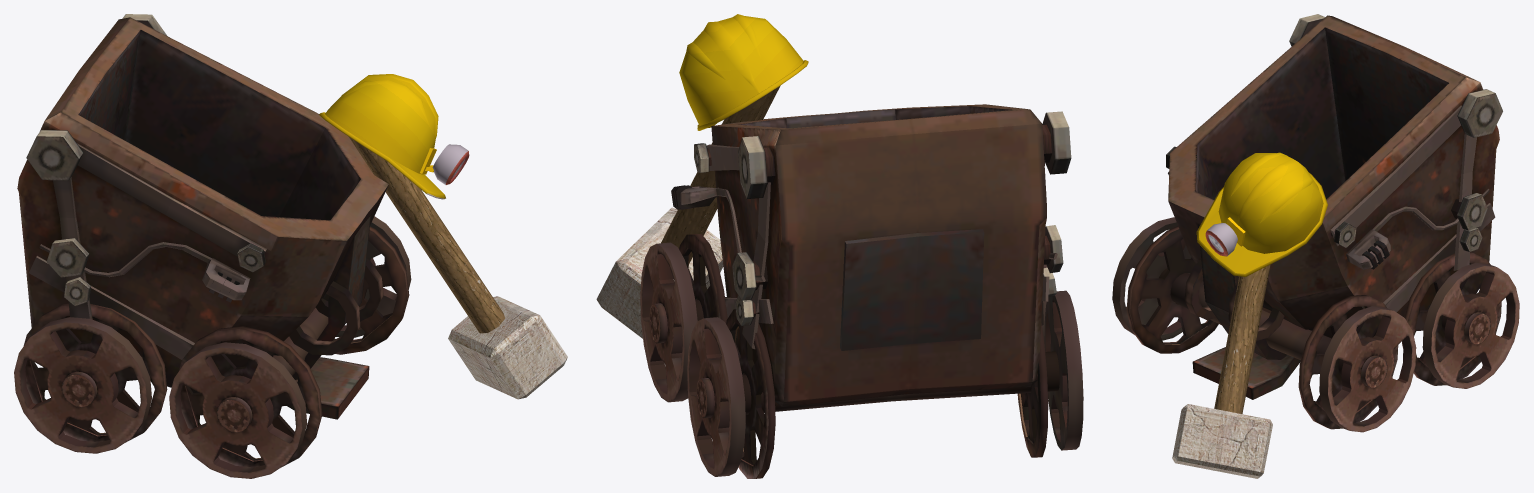
File: jiufen.glb
3 renders of one model, left to right at view 1: azimuth 30°, elevation 25°; view 2: azimuth 150°, elevation 25°; view 3: azimuth 270°, elevation 25°, orthographic. The views are drawn at different scales.
Parts seen in each view (by area): view 1: node_id44, node_id35, node_id33; view 2: node_id44, node_id33, node_id35; view 3: node_id44, node_id33, node_id35.
Part boxes in pixels (<box>): node_id44: <box>14,14,411,478</box>; node_id35: <box>348,136,567,399</box>; node_id33: <box>319,74,469,199</box>; node_id44: <box>640,104,1083,478</box>; node_id33: <box>679,14,808,130</box>; node_id35: <box>596,85,780,338</box>; node_id44: <box>1112,14,1519,432</box>; node_id33: <box>1196,152,1327,276</box>; node_id35: <box>1172,264,1272,478</box>.
Bounding box in the file's own units: 0.7683 × 0.516 × 0.6388.
3 materials, 3 textured.
